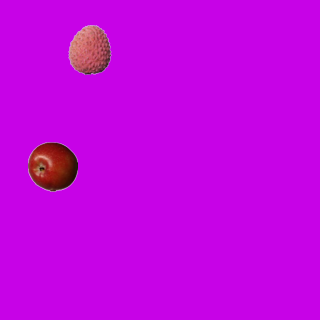Apple Braeburn: (27, 141, 77, 191)
Lychee: (64, 24, 114, 74)
